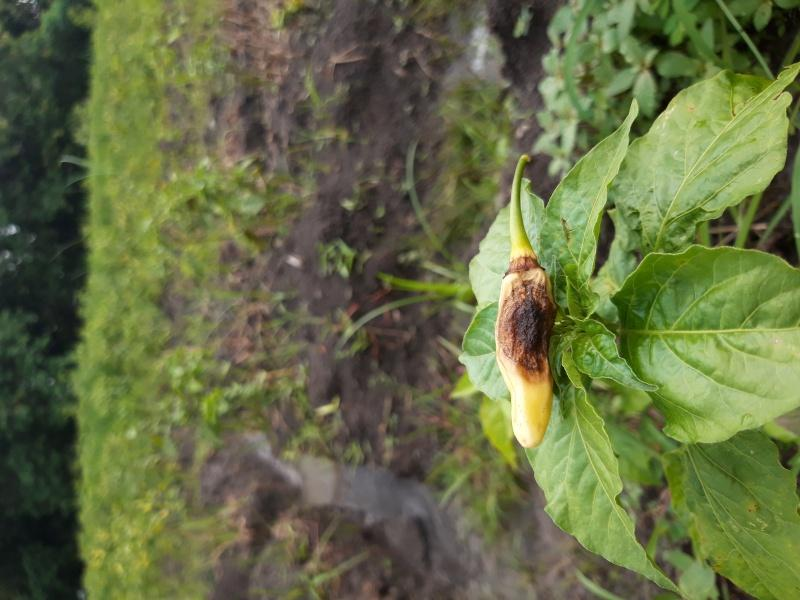antraknosa: (494, 264, 560, 449)
